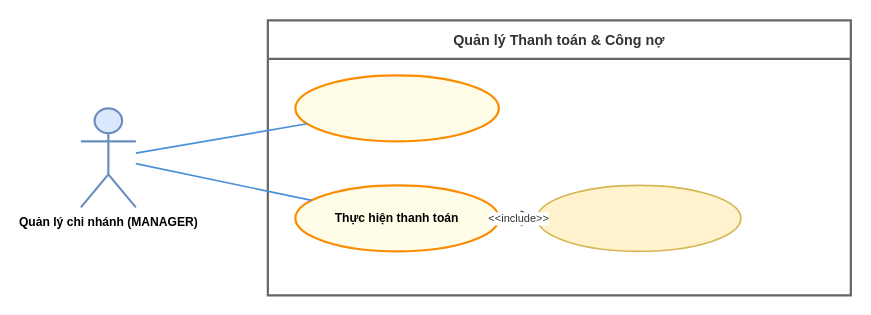
Image size: 871x315. Some labels were removed from this diagram. The shapes that lost their labels are listed below. From the top down, each one's box as (x1, y1, x2, y2) in pixels, then its label:
(294, 74, 499, 142): Xem danh sách phiếu chưa thanh toán
(536, 184, 741, 252): Giảm trừ công nợ NCC hoặc KH tương ứng
